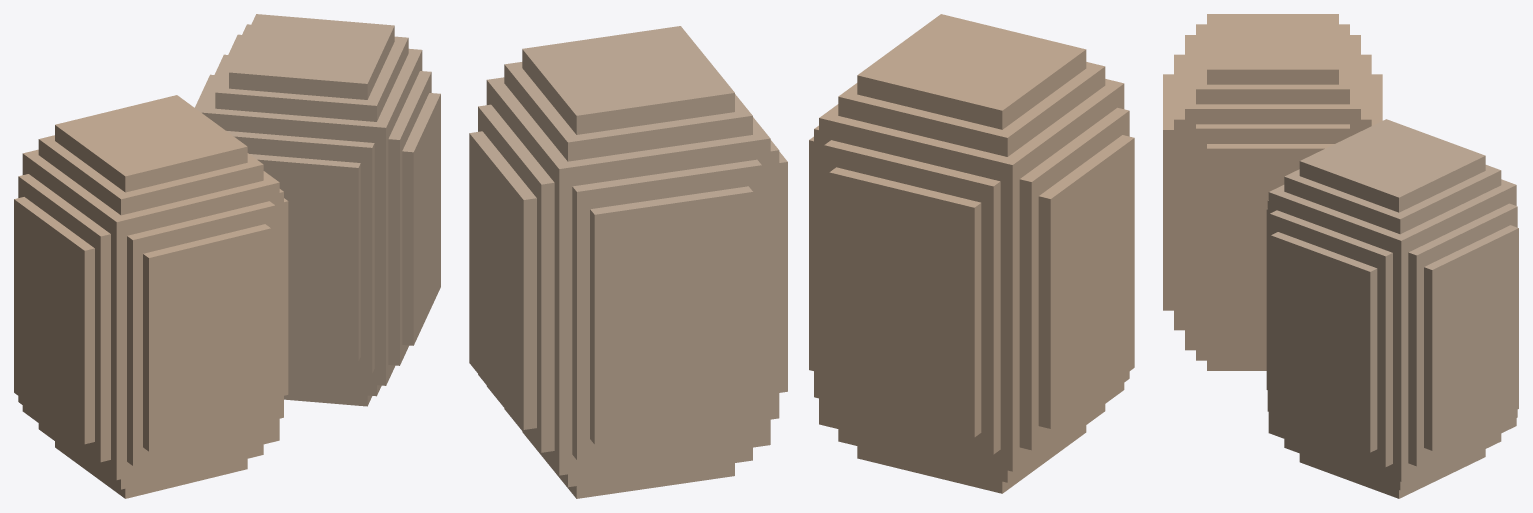
Rendered from potatoes.gltf.
3 renders of one model, left to right at view 1: azimuth 30°, elevation 25°; view 2: azimuth 150°, elevation 25°; view 3: azimuth 270°, elevation 25°, orthographic. The views are drawn at different scales.
Visible parts, largest first — view 1: side_1, mid_4, side_3, main, TOP1, TOP1_1, main_1, side, das_1, side_2, mid_5, TOP (+8 smaller); view 2: mid_6, mid_1, mid_4, main, main_1, mid_3, TOP1, TOP1_1, mid_7, mid_2, mid_5, TOP (+10 smaller); view 3: das_1, mid_3, das, main_1, TOP1_1, TOP1, main, sdaasd_1, mid_8, sdaasd, TOP_1, TOP (+9 smaller).
Part boxes in pixels (<box>): side_1: <box>143,224,270,451</box>; mid_4: <box>14,197,94,444</box>; side_3: <box>249,154,360,361</box>; main: <box>22,149,279,479</box>; TOP1: <box>55,95,247,192</box>; TOP1_1: <box>229,14,394,99</box>; main_1: <box>201,34,422,385</box>; side: <box>127,201,275,465</box>; das_1: <box>402,93,440,345</box>; side_2: <box>226,130,374,373</box>; mid_5: <box>18,174,110,462</box>; TOP: <box>38,135,263,215</box>; mid_6: <box>590,186,753,444</box>; mid_1: <box>829,167,981,437</box>; mid_4: <box>1038,135,1134,428</box>; main: <box>819,79,1124,471</box>; main_1: <box>486,77,770,475</box>; mid_3: <box>469,131,536,429</box>; TOP1: <box>857,14,1086,129</box>; TOP1_1: <box>522,26,734,134</box>; mid_7: <box>572,159,761,459</box>; mid_2: <box>824,140,1000,454</box>; mid_5: <box>1019,107,1129,450</box>; TOP: <box>838,62,1105,156</box>; das_1: <box>1271,232,1377,452</box>; mid_3: <box>1424,225,1518,450</box>; das: <box>1207,144,1334,329</box>; main_1: <box>1268,179,1516,481</box>; TOP1_1: <box>1299,119,1485,212</box>; TOP1: <box>1207,14,1338,84</box>; main: <box>1185,35,1360,350</box>; sdaasd_1: <box>1270,210,1392,467</box>; mid_8: <box>1408,203,1517,466</box>; sdaasd: <box>1196,124,1349,339</box>; TOP_1: <box>1284,165,1501,234</box>; TOP: <box>1196,24,1349,104</box>.
Size of the model in its own units: 194 by 141 by 144.
